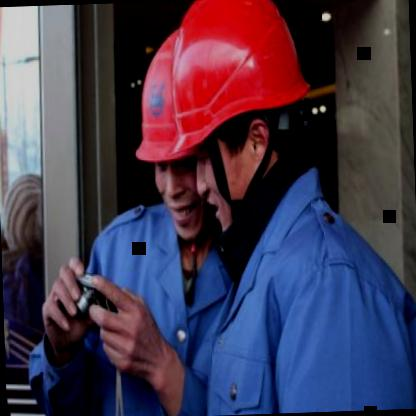helmet: (171, 0, 325, 235), (129, 19, 217, 249)
